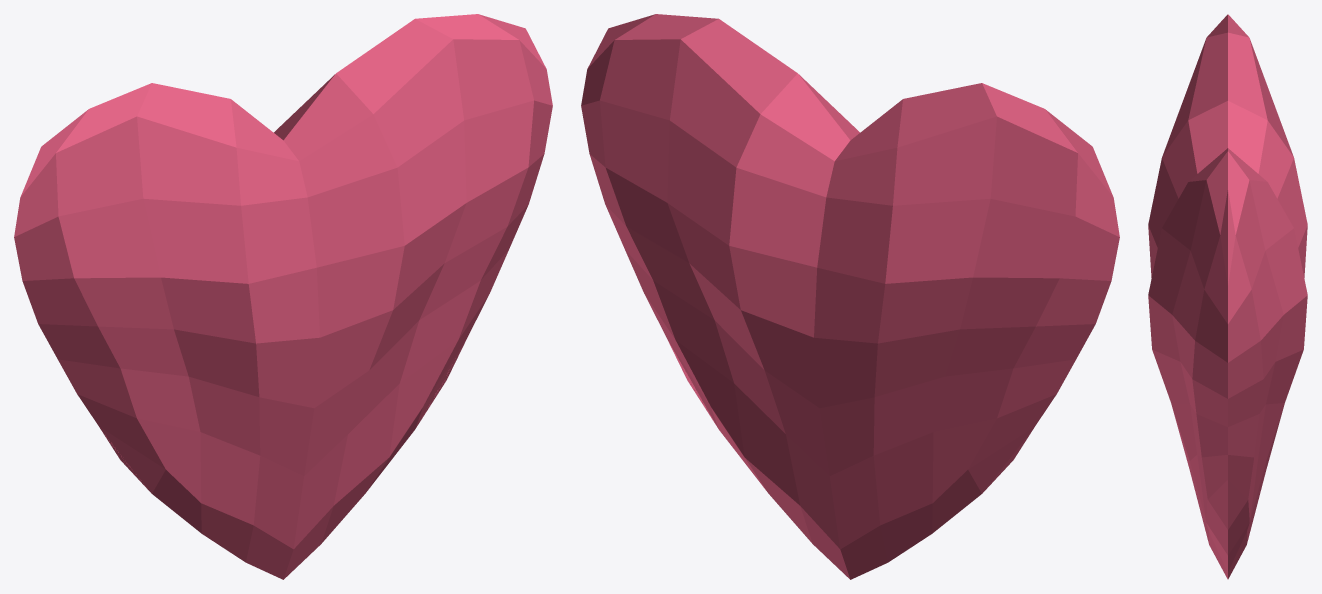
The model's file is sydän.fbx.
3 renders of one model, left to right at view 1: azimuth 30°, elevation 25°; view 2: azimuth 150°, elevation 25°; view 3: azimuth 270°, elevation 25°, orthographic. The views are drawn at different scales.
Parts seen in each view (by area): view 1: Plane; view 2: Plane; view 3: Plane.
Part boxes in pixels (x1,y1,x2,y2): Plane: (14, 14, 552, 579); Plane: (581, 14, 1119, 579); Plane: (1148, 14, 1307, 579).
Bounding box in the file's own units: 168 × 158 × 46.69.
